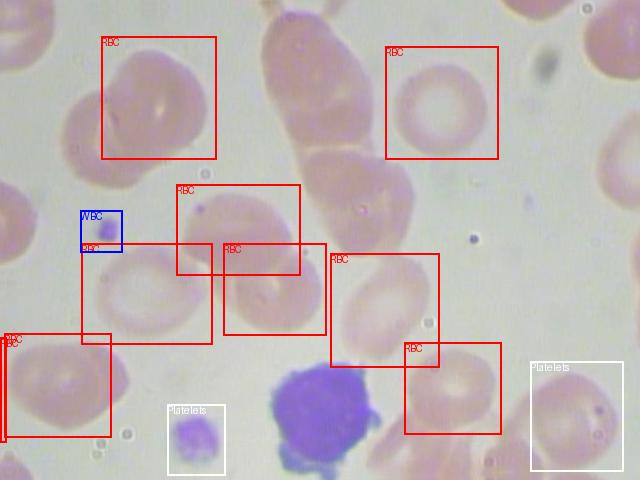Platelets: (530, 361, 623, 471), (167, 404, 225, 475)
RBC: (101, 36, 216, 159), (81, 243, 212, 344), (385, 46, 498, 159), (330, 253, 439, 367), (176, 184, 300, 275), (4, 333, 111, 437), (223, 243, 326, 335), (404, 342, 501, 434), (0, 337, 6, 442)
WBC: (80, 210, 122, 252)
